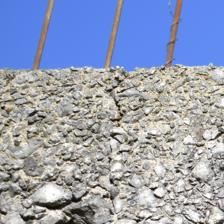Crack: (49, 35, 88, 183)
